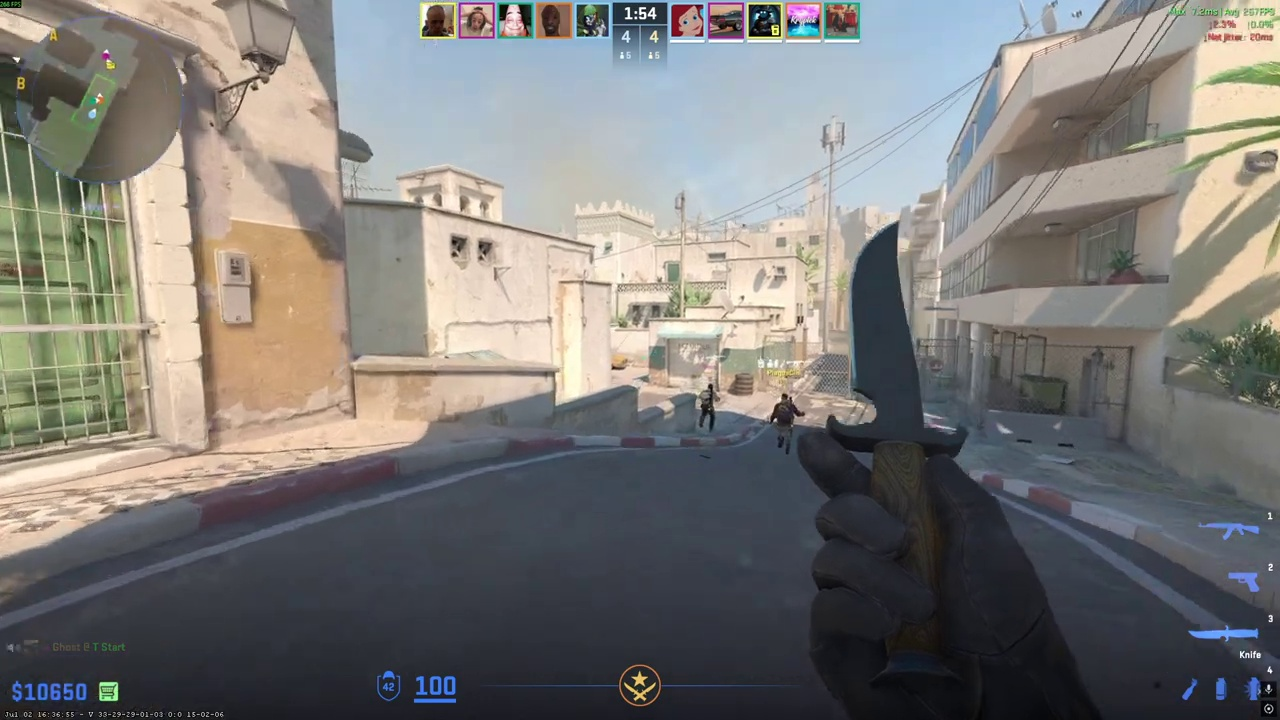Terrorist: (771, 393, 797, 453), (698, 383, 718, 431)
